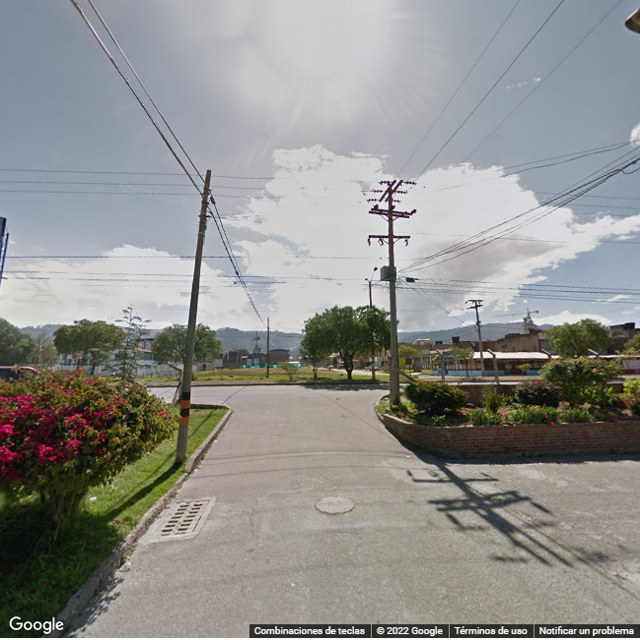D00: (246, 482, 258, 544)
